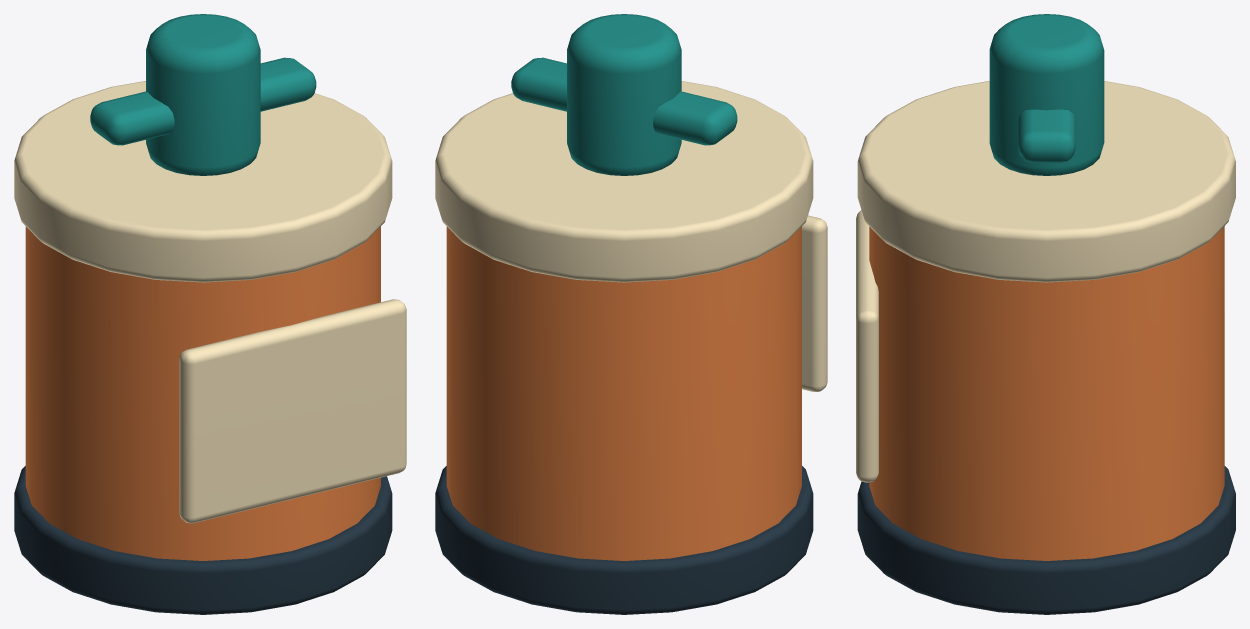
File: batch.glb
The picture shows the model from 3 angles, left to right: view 1: azimuth 30°, elevation 25°; view 2: azimuth 150°, elevation 25°; view 3: azimuth 270°, elevation 25°; orthographic projection.
Visible parts, largest first — view 1: Keg, Top hoop, Batch label, Bottom hoop, Spigot, Handle; view 2: Keg, Top hoop, Bottom hoop, Spigot, Handle, Batch label; view 3: Keg, Top hoop, Bottom hoop, Spigot, Batch label, Handle.
Part boxes in pixels (bbox=[...]): Keg: bbox=[25, 226, 380, 560]; Top hoop: bbox=[14, 81, 392, 282]; Batch label: bbox=[179, 299, 406, 523]; Bottom hoop: bbox=[14, 466, 392, 614]; Spigot: bbox=[146, 14, 260, 175]; Handle: bbox=[90, 57, 316, 145]; Keg: bbox=[446, 226, 801, 560]; Top hoop: bbox=[435, 81, 813, 282]; Bottom hoop: bbox=[435, 466, 813, 614]; Spigot: bbox=[567, 14, 681, 175]; Handle: bbox=[511, 57, 737, 145]; Batch label: bbox=[802, 215, 827, 391]; Keg: bbox=[869, 226, 1224, 560]; Top hoop: bbox=[857, 81, 1235, 282]; Bottom hoop: bbox=[857, 466, 1235, 614]; Spigot: bbox=[989, 14, 1104, 175]; Batch label: bbox=[856, 210, 878, 482]; Handle: bbox=[1018, 109, 1075, 162].
Size of the model in its own units: 0.66 by 0.975 by 0.663.
